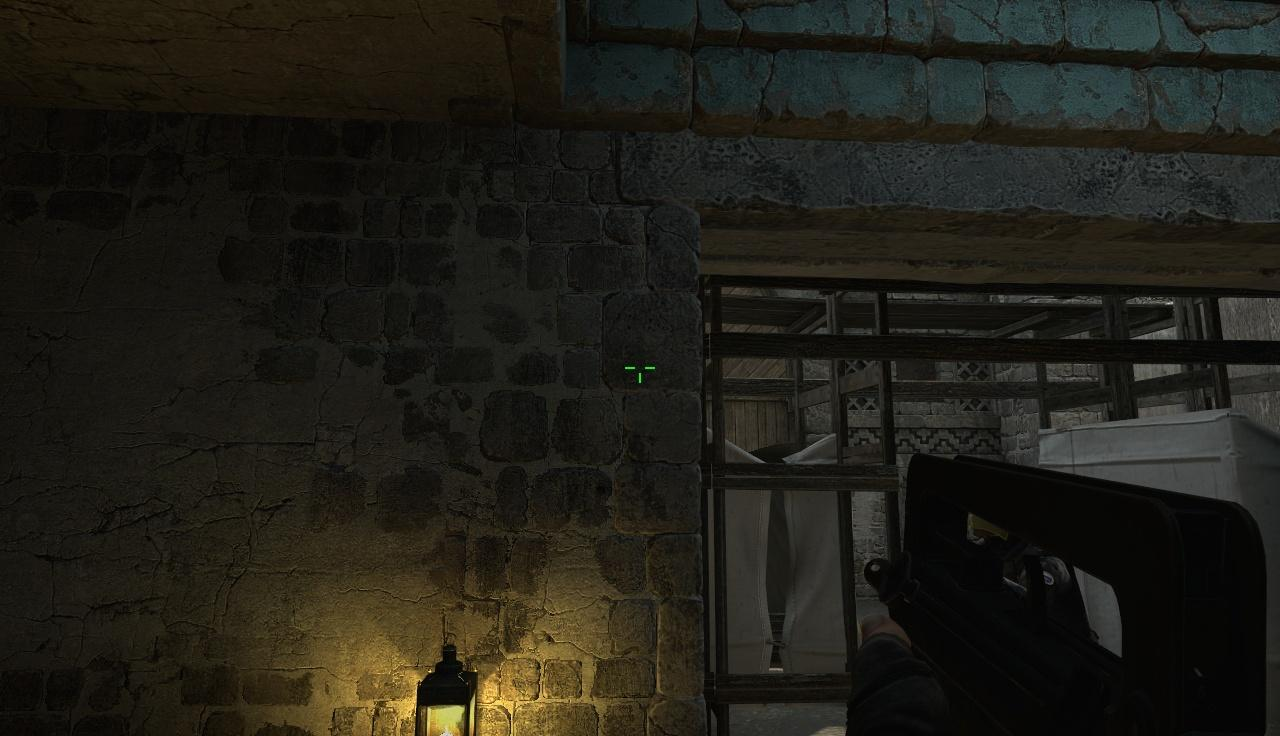rifle: (868, 448, 1229, 731)
